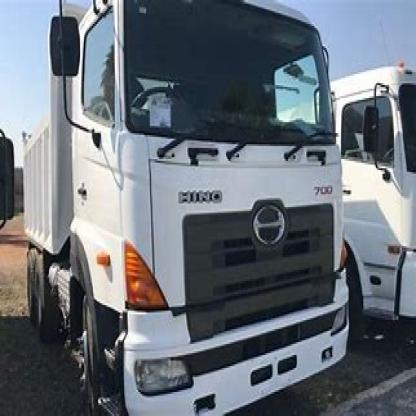dump_truck: (12, 2, 354, 414)
